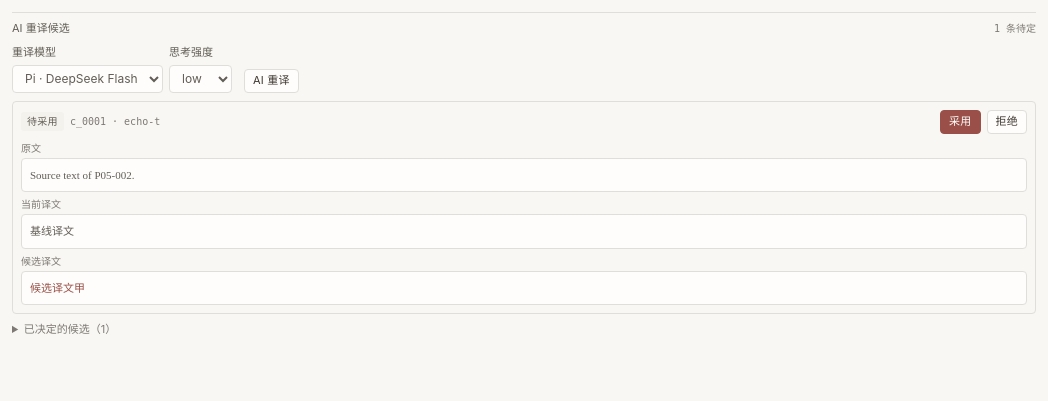
CandidatePanel 候选渲染 › 已决定的候选折叠起来（默认收起，点开后能看到）
Click the heading "已决定的候选（1）" at (70, 329), box [24, 322, 116, 336]
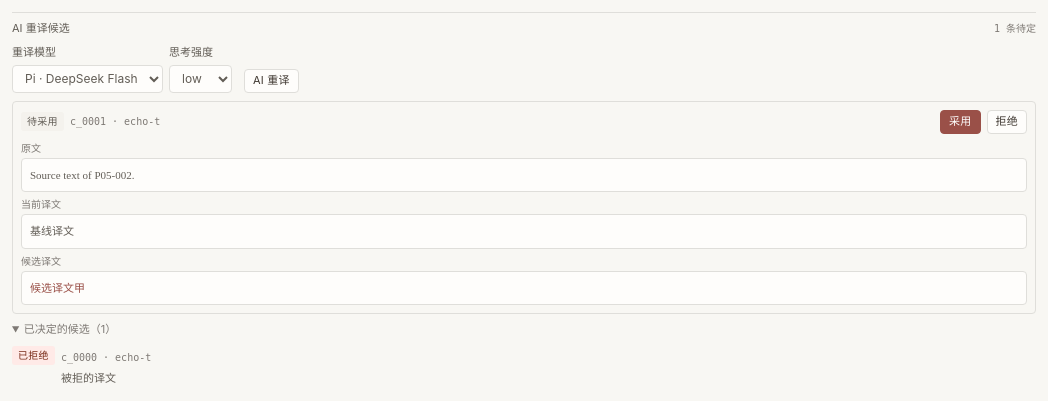
Result: the text "被拒的译文" is shown at [61, 372, 116, 384]
Result: the text "已拒绝" is shown at [12, 346, 55, 365]
